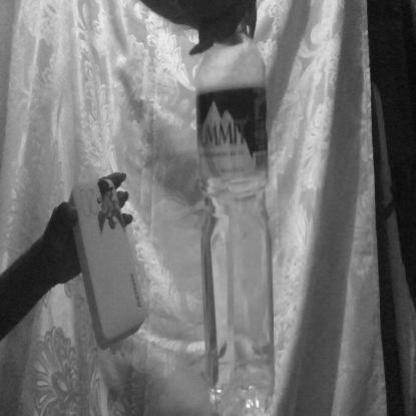Plastic Bottle: (173, 14, 290, 396)
